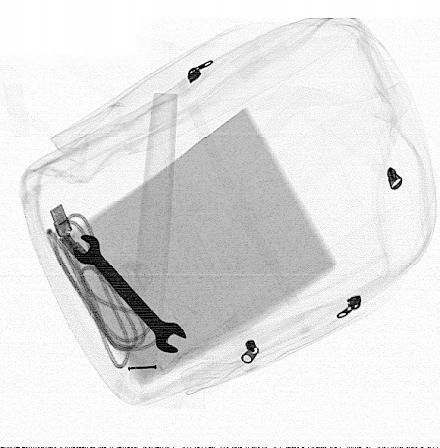Wrench: (71, 231, 186, 355)
